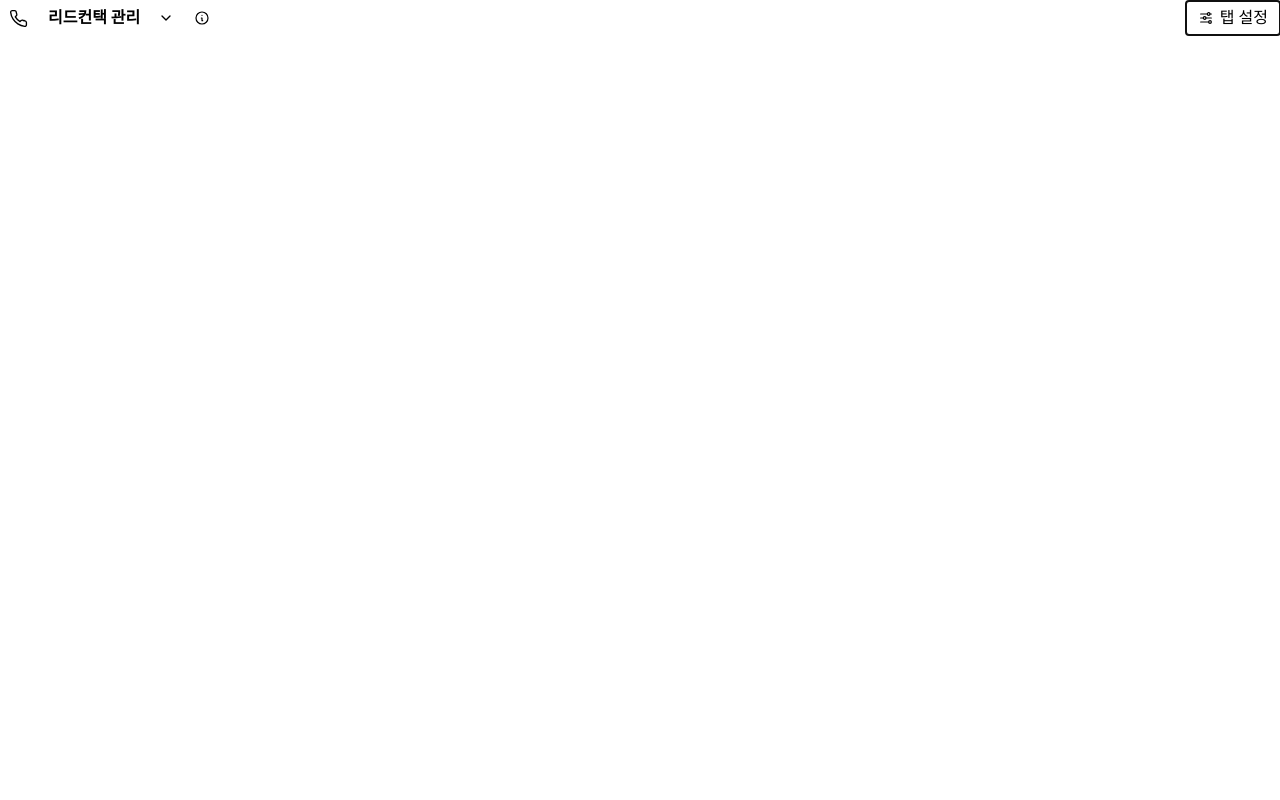
Test: 탭 설정 › 일반 › 아이콘 16개 중 저장된 것(옛 이모지도)이 골라져 있고, 누르면 바로 저장한다
Click the button "탭 설정": point(1233, 18) [1186, 1, 1279, 35]
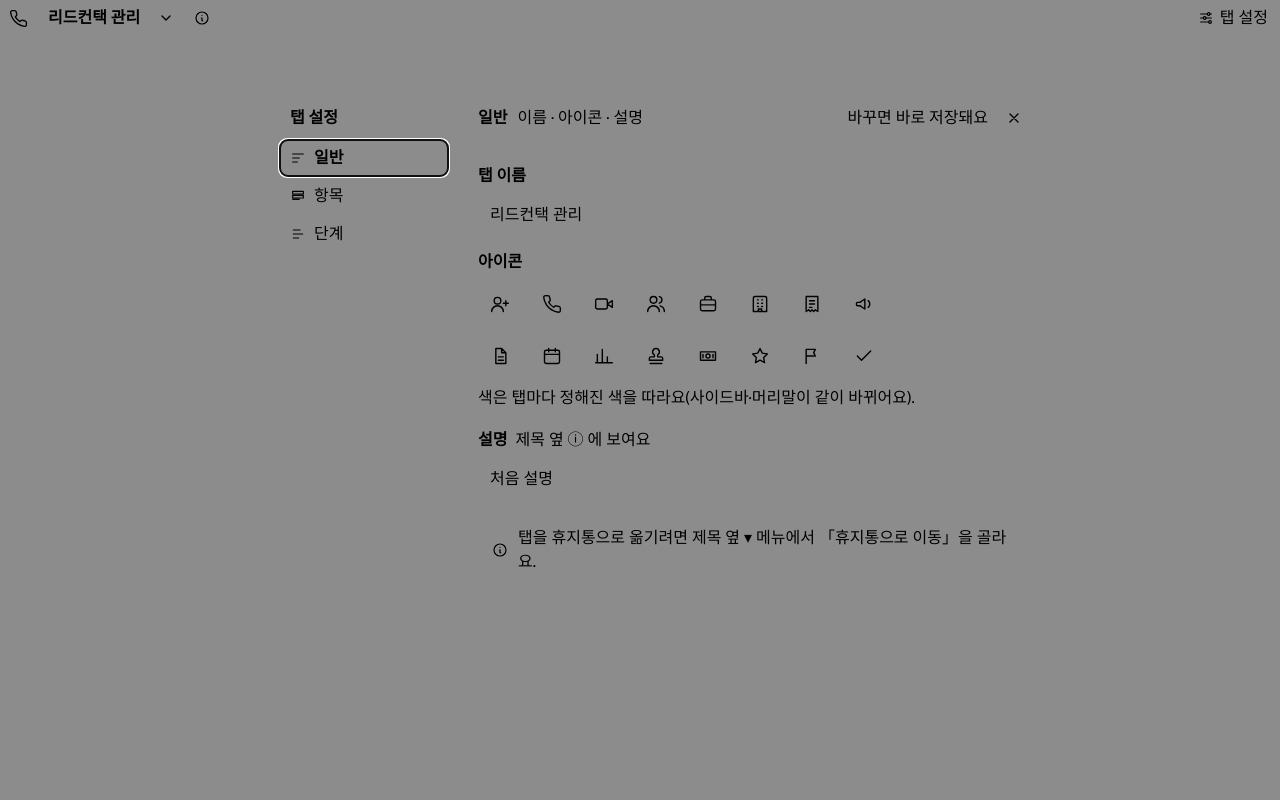
Click the button named "별": point(760, 356) [738, 334, 782, 378]
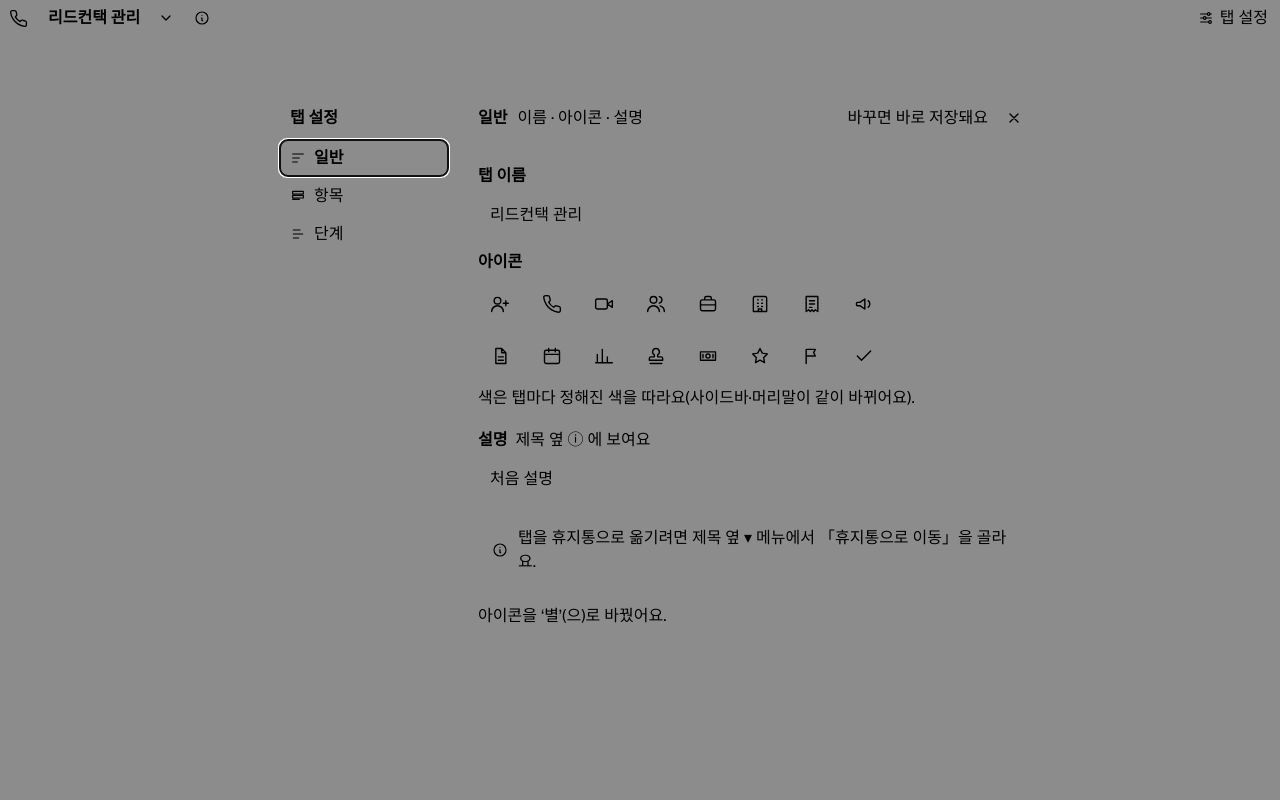
Result: the message "아이콘을 ‘별’(으)로 바꿨어요." is shown at [478, 605, 666, 626]
